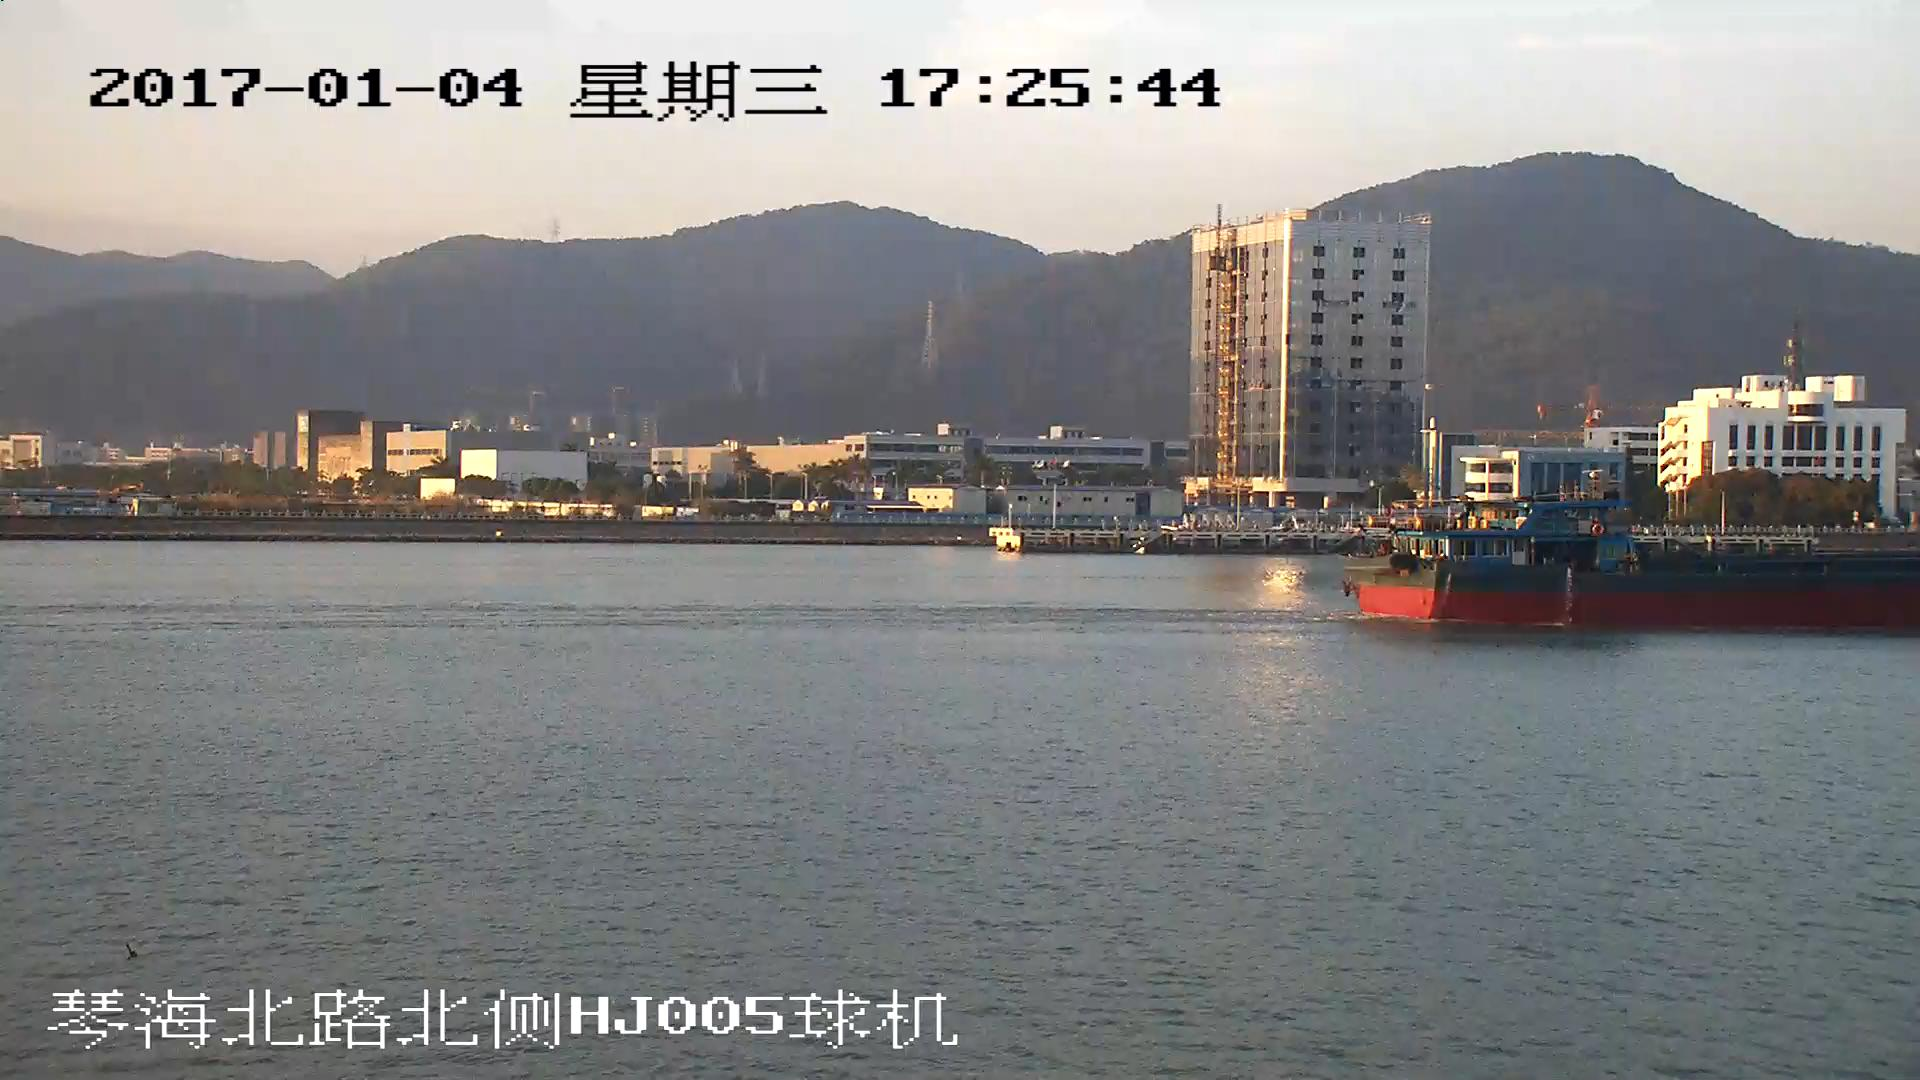general cargo ship: (1351, 503, 1920, 634)
